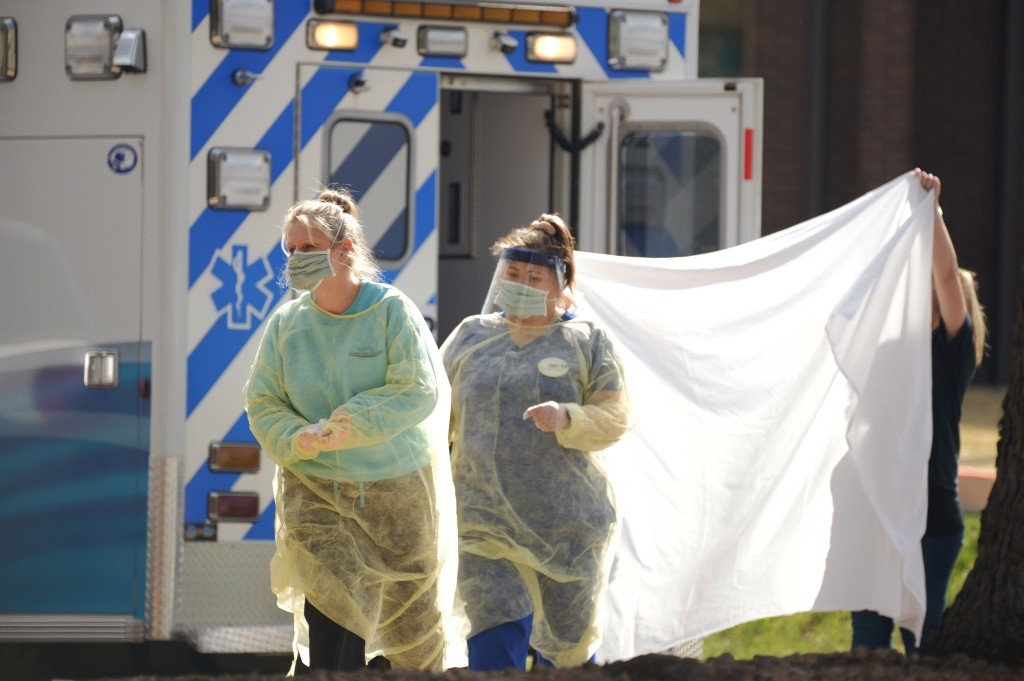face_with_mask: (489, 215, 578, 331), (281, 188, 362, 307)
